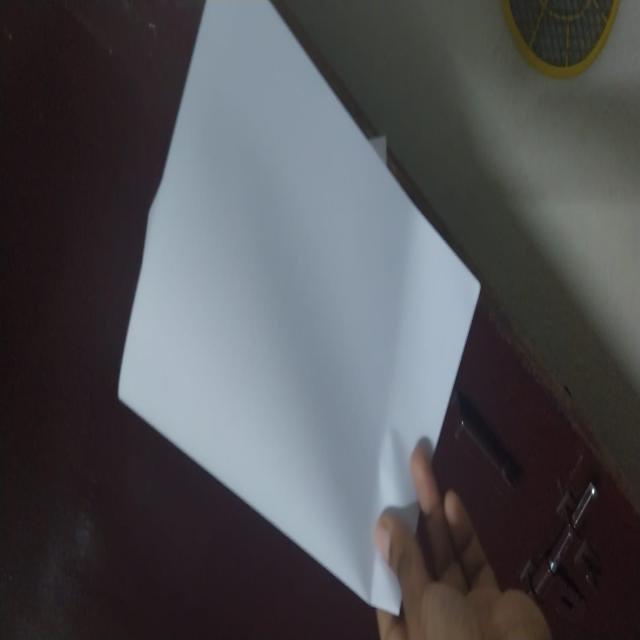Paper - Recyclable: (115, 1, 482, 617)
